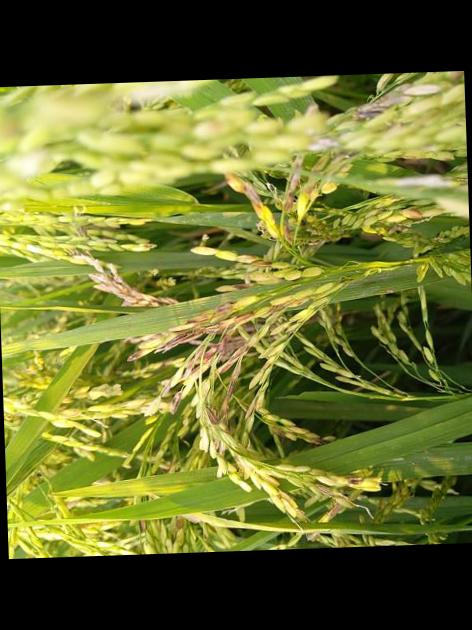Panicle Blight: (126, 312, 253, 362), (355, 71, 464, 121), (89, 272, 179, 307), (182, 337, 245, 379), (305, 474, 352, 524), (225, 174, 264, 221), (182, 302, 231, 325), (217, 346, 245, 380), (267, 297, 309, 315), (284, 172, 299, 212), (220, 379, 234, 415), (235, 255, 272, 268), (384, 223, 409, 240), (139, 330, 173, 342), (144, 359, 173, 373), (311, 154, 330, 173), (203, 408, 219, 426), (169, 391, 181, 413), (231, 280, 255, 290), (401, 208, 422, 219), (244, 398, 255, 418), (267, 425, 285, 437), (346, 474, 363, 486), (304, 181, 317, 195), (283, 225, 292, 245), (334, 152, 356, 160), (307, 241, 320, 254), (212, 439, 223, 453), (140, 240, 155, 250), (292, 156, 302, 170), (160, 383, 169, 397), (323, 234, 337, 242), (312, 439, 327, 445)
